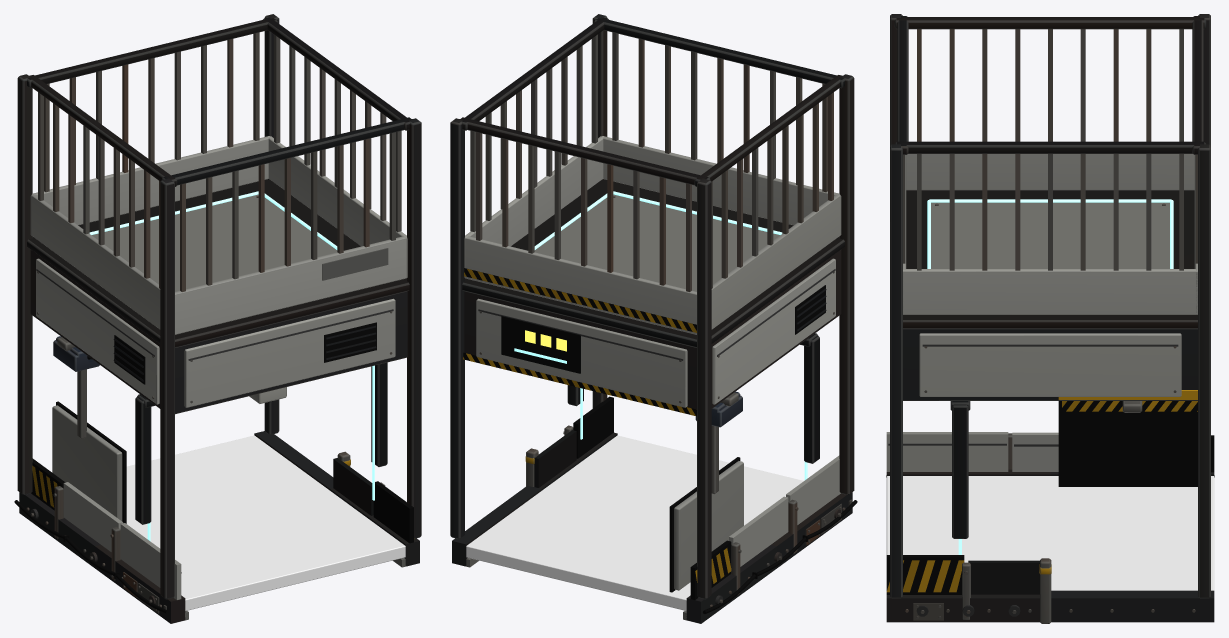
File: filter_basic.glb
The picture shows the model from 3 angles, left to right: view 1: azimuth 30°, elevation 25°; view 2: azimuth 150°, elevation 25°; view 3: azimuth 270°, elevation 25°; orthographic projection. The views are drawn at different scales.
Visible parts, largest first — view 1: Frame, Belt, Pusher; view 2: Frame, Belt, Pusher; view 3: Frame, Belt, Pusher.
Part boxes in pixels (<box>): Frame: <box>14,14,421,623</box>; Belt: <box>126,435,405,610</box>; Pusher: <box>52,336,126,523</box>; Frame: <box>450,14,857,623</box>; Belt: <box>466,435,803,610</box>; Pusher: <box>669,391,743,592</box>; Frame: <box>886,14,1214,623</box>; Belt: <box>886,476,1214,590</box>; Pusher: <box>1058,401,1197,486</box>.
Bounding box in the file's own units: 1.98 × 3.21 × 2.
